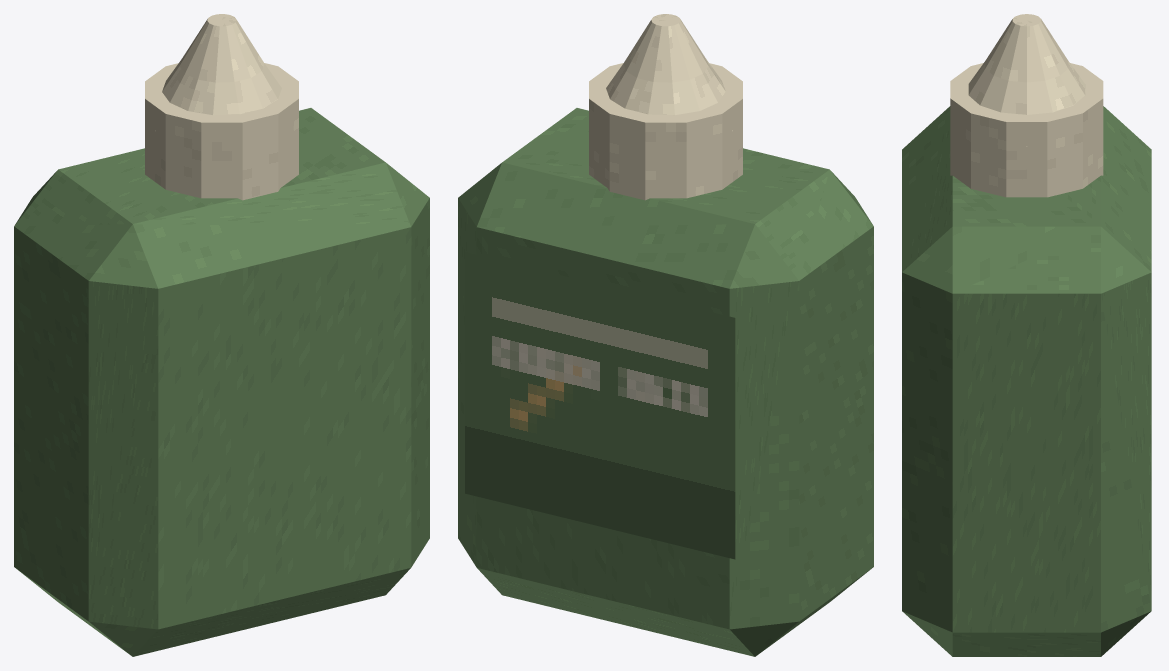
Rendered from hair_dye_green.glb.
3 views of the same model, side by side, from view 1: azimuth 30°, elevation 25°; view 2: azimuth 150°, elevation 25°; view 3: azimuth 270°, elevation 25° (orthographic).
Visible parts, largest first — view 1: block_squeeze bottle, block_pointed dispenser, block_dispenser tip; view 2: block_squeeze bottle, block_salon dye label, block_pointed dispenser, block_dispenser tip; view 3: block_squeeze bottle, block_pointed dispenser, block_dispenser tip.
Part boxes in pixels (x1=…): block_squeeze bottle: x1=14, y1=108, x2=429, y2=656; block_pointed dispenser: x1=145, y1=63, x2=298, y2=200; block_dispenser tip: x1=155, y1=14, x2=281, y2=130; block_squeeze bottle: x1=458, y1=108, x2=873, y2=656; block_salon dye label: x1=465, y1=252, x2=735, y2=559; block_pointed dispenser: x1=589, y1=63, x2=742, y2=200; block_dispenser tip: x1=606, y1=14, x2=732, y2=130; block_squeeze bottle: x1=902, y1=106, x2=1151, y2=656; block_pointed dispenser: x1=950, y1=63, x2=1103, y2=197; block_dispenser tip: x1=968, y1=14, x2=1085, y2=146.
Bounding box in the file's own units: 0.0742 × 0.1203 × 0.0479.
Materials: 1 (1 with a texture image).
